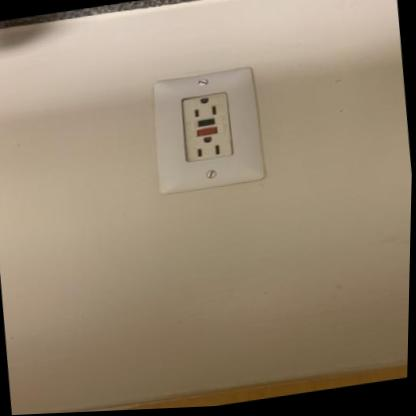OUTLET: (147, 65, 268, 196)
